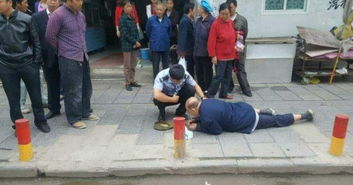fall: (181, 91, 316, 137)
